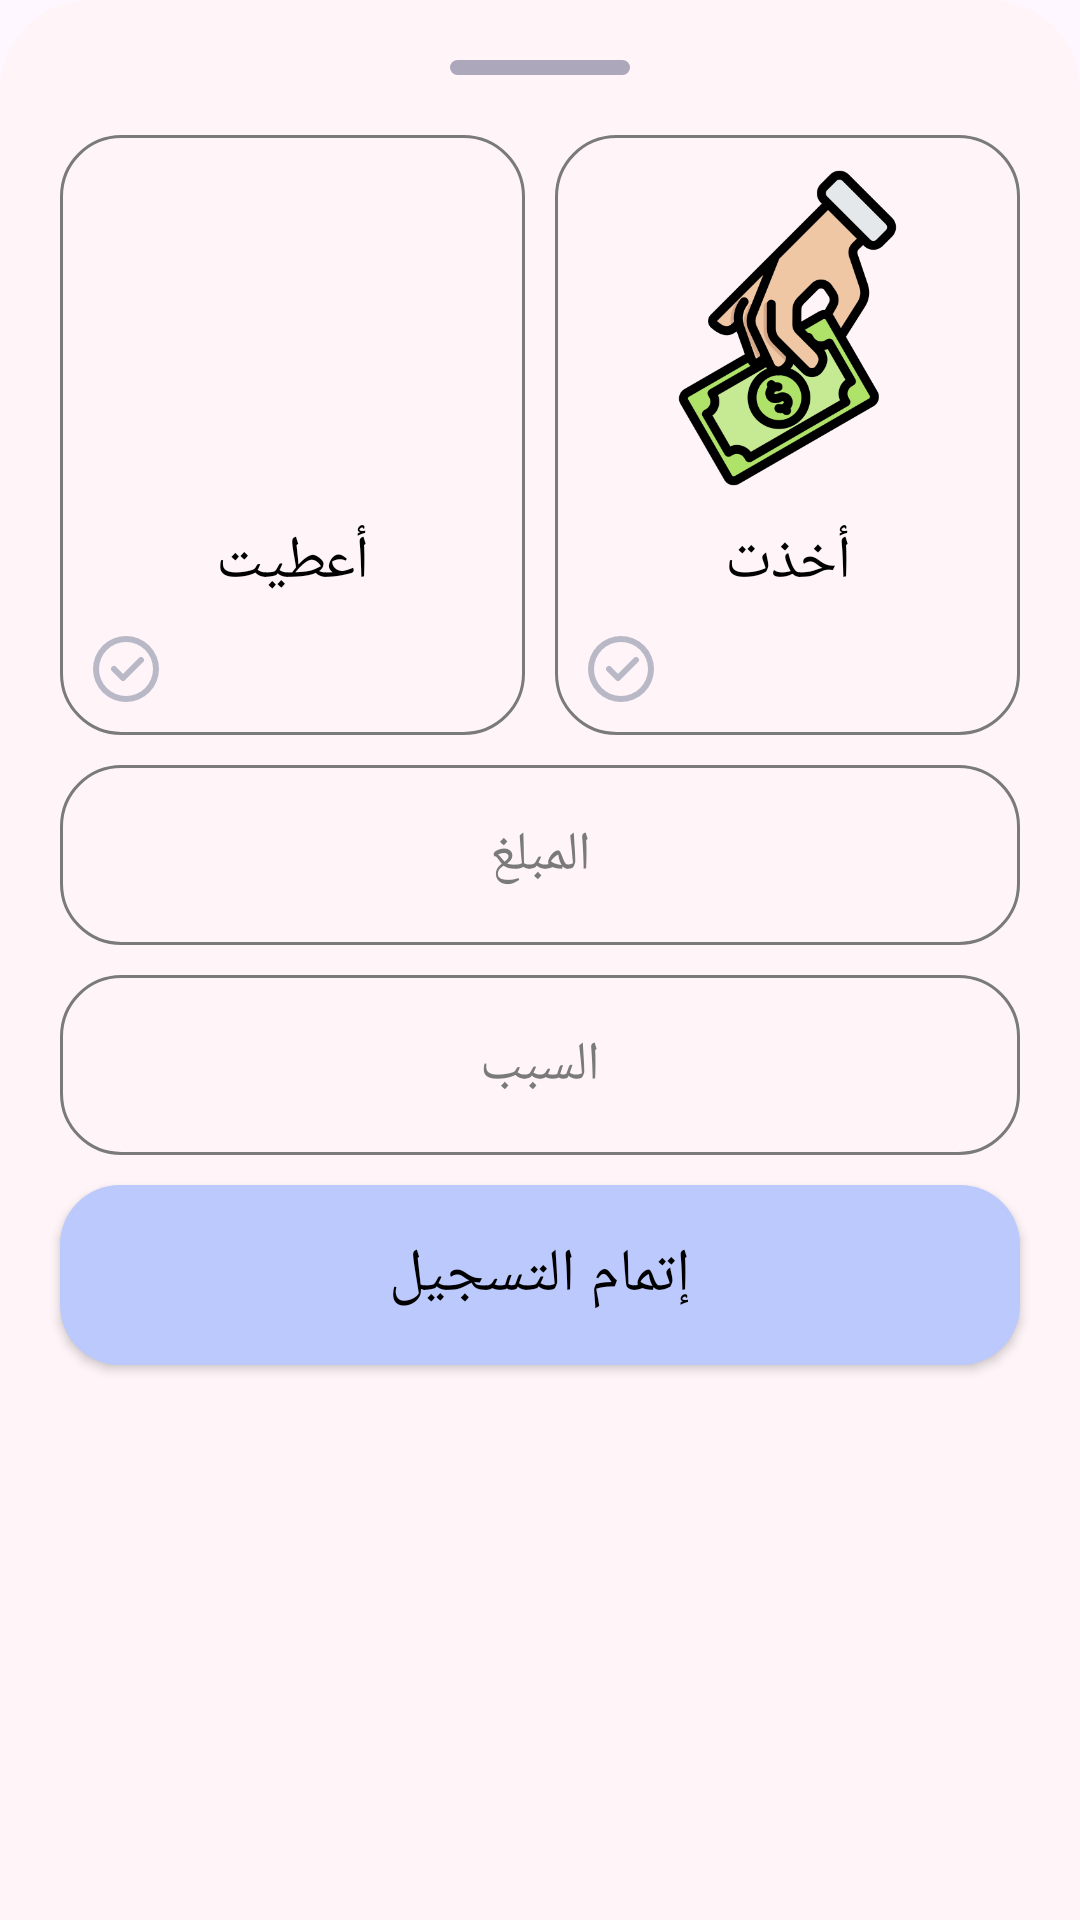

Screen size 1080w x 1920h. Icon name, then its box in pixels as box=[x1, y1, x2, y2]:
checkbox: box=[93, 636, 159, 702], box=[588, 636, 654, 702]
